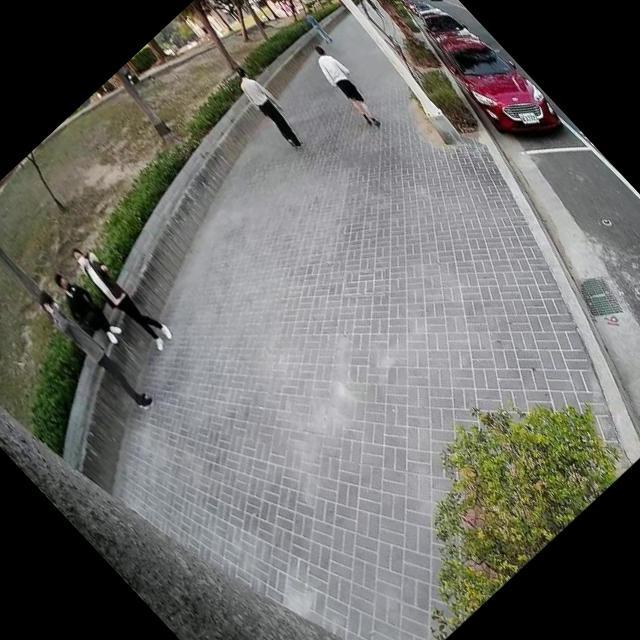person: (24, 276, 160, 419), (60, 232, 178, 356), (294, 33, 394, 137), (225, 61, 318, 158), (38, 263, 128, 357), (296, 4, 338, 48)
